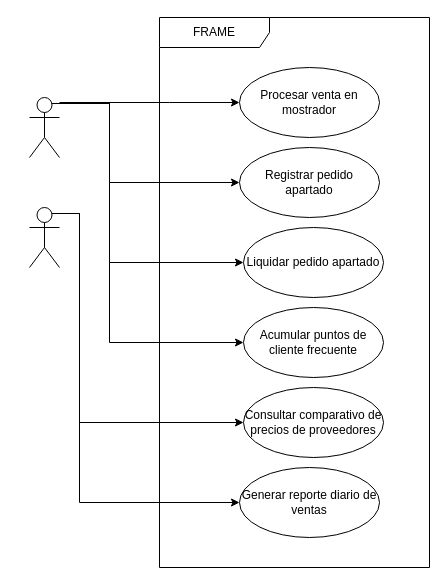
The diagram is 447 pixels wide and 585 high, and some of its shapes have lost their labels. The centre of each missing label's shape, as x and y in pixels:
Dueño: the point at 44,237
Empleado: the point at 44,127
